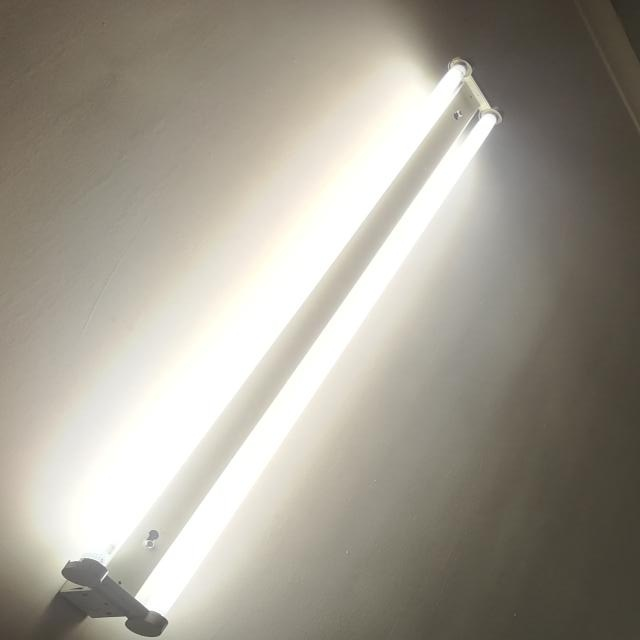fluorescent tube: (41, 49, 542, 640)
